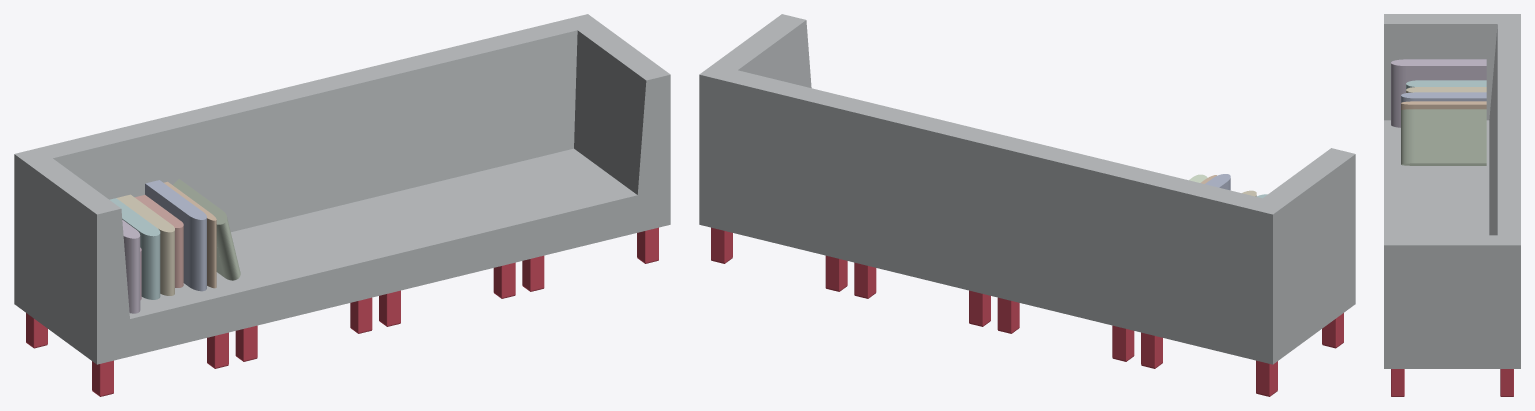
File: couch.glb
3 renders of one model, left to right at view 1: azimuth 30°, elevation 25°; view 2: azimuth 150°, elevation 25°; view 3: azimuth 270°, elevation 25°, orthographic. The views are drawn at different scales.
Visible parts, largest first — view 1: Mesh_Mesh_head_geo.001_lambert2SG.001; view 2: Mesh_Mesh_head_geo.001_lambert2SG.001; view 3: Mesh_Mesh_head_geo.001_lambert2SG.001.
Boxes of the visible parts, x1=… form: Mesh_Mesh_head_geo.001_lambert2SG.001: x1=14, y1=14, x2=670, y2=396; Mesh_Mesh_head_geo.001_lambert2SG.001: x1=699, y1=14, x2=1355, y2=396; Mesh_Mesh_head_geo.001_lambert2SG.001: x1=1384, y1=14, x2=1520, y2=396.
Size of the model in its own units: 0.08 by 0.025 by 0.02.
